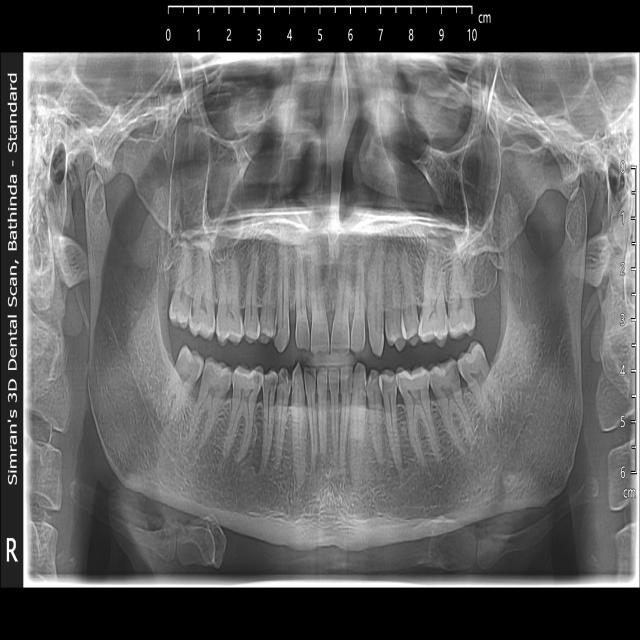Caries: (428, 357, 460, 403), (231, 366, 262, 400), (277, 371, 290, 399)
Filling: (262, 371, 276, 399)
Periapical lesion: (254, 433, 264, 468)
